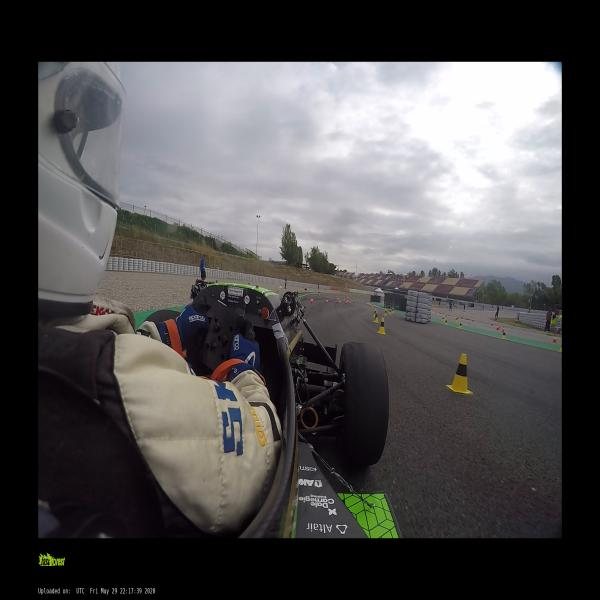orange_cone: (551, 336, 557, 344), (310, 297, 313, 305), (325, 299, 329, 305), (338, 299, 341, 305), (502, 326, 505, 332), (496, 325, 499, 330), (497, 323, 500, 328), (490, 321, 493, 326), (345, 300, 348, 305)
yellow_cone: (447, 353, 473, 394), (378, 317, 386, 335), (373, 313, 379, 323), (501, 330, 506, 339), (559, 342, 562, 352), (373, 309, 376, 318), (384, 309, 387, 316), (389, 308, 392, 314), (459, 322, 462, 328), (391, 308, 394, 313), (445, 319, 447, 325), (442, 316, 444, 322), (455, 317, 457, 322)
